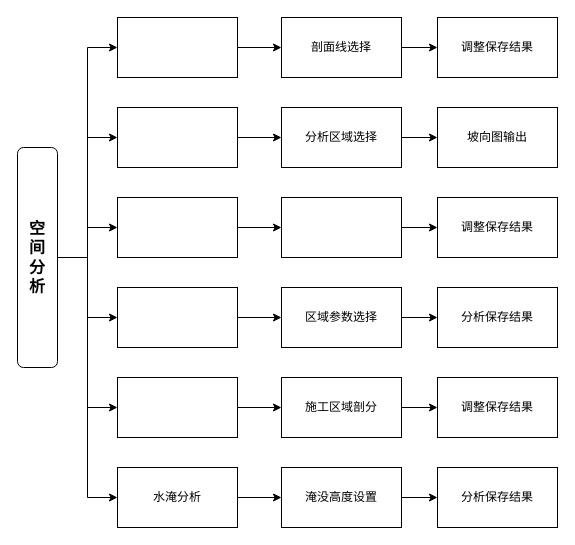
Some shapes in this 575 by 545 pixel diagram are drawn without their labels. The box of each missing label's shape, as (x1, y1, x2, y2) in pixels:
剖面分析: (116, 16, 238, 78)
坡向分析: (116, 106, 238, 168)
填挖方分析: (116, 376, 238, 438)
等高线分析: (116, 286, 238, 348)
观察点和目标点选择: (280, 196, 402, 258)
通视分析: (116, 196, 238, 258)
